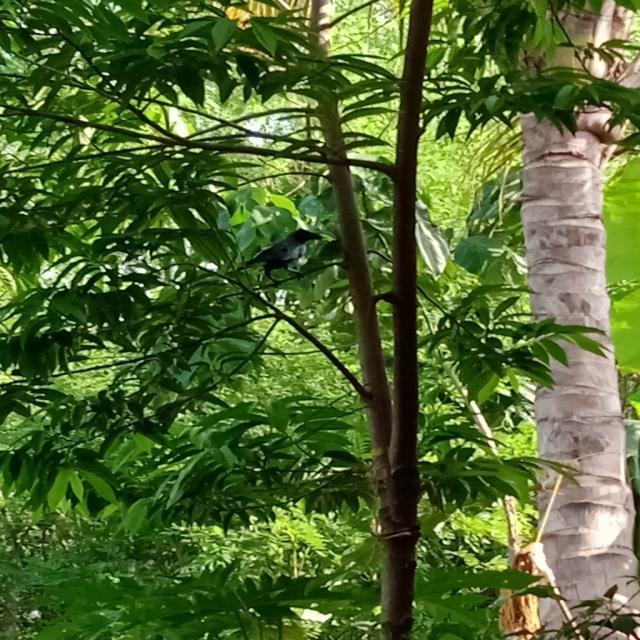crow: (230, 226, 326, 290)
